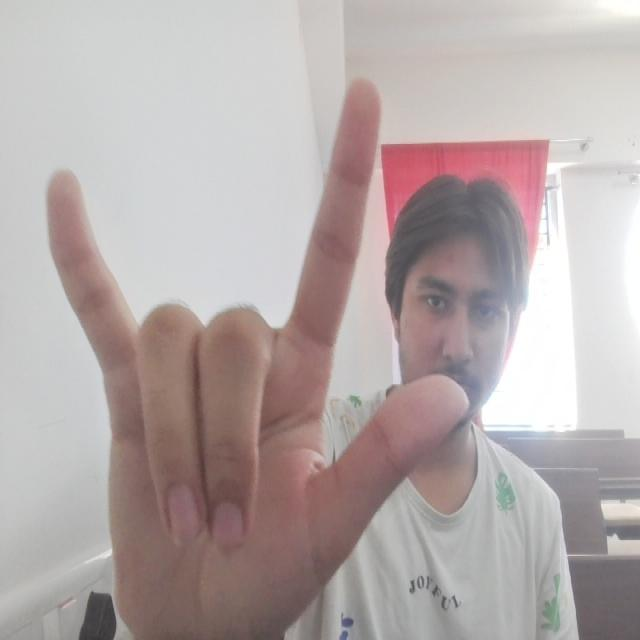iloveyou: (43, 72, 477, 640)
